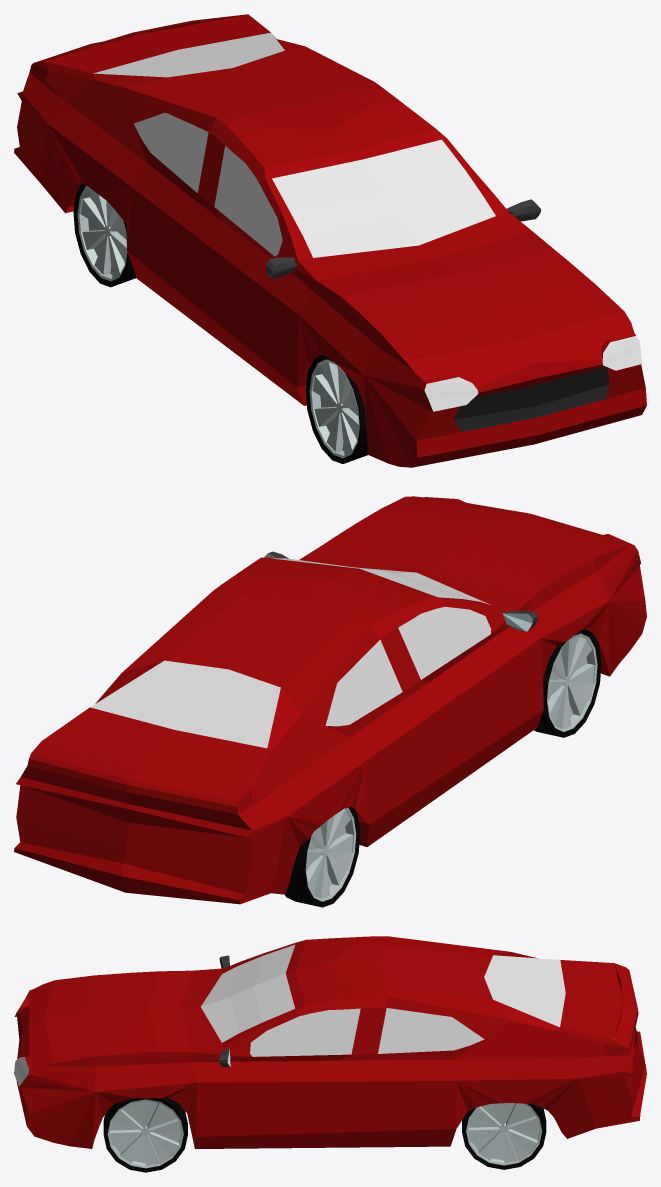
Rendered from BMW.fbx.
3 views of the same model, one above another, from view 1: azimuth 30°, elevation 25°; view 2: azimuth 150°, elevation 25°; view 3: azimuth 270°, elevation 25° (orthographic). The views are drawn at different scales.
Parts seen in each view (by area): view 1: Куб; view 2: Куб; view 3: Куб.
Boxes of the visible parts, box(x1,y1,x2,y2) form: Куб: box(14, 14, 646, 467); Куб: box(14, 496, 646, 907); Куб: box(14, 936, 646, 1172).
Size of the model in its own units: 129 by 99.79 by 348.
